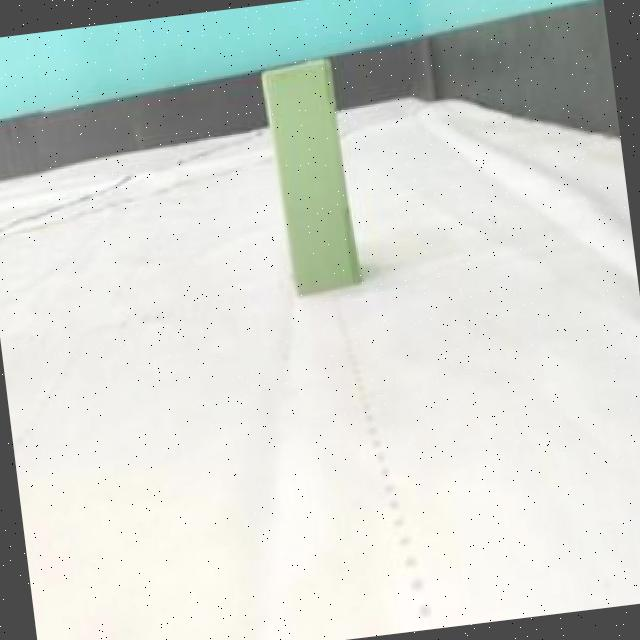greenbox: (252, 55, 366, 302)
